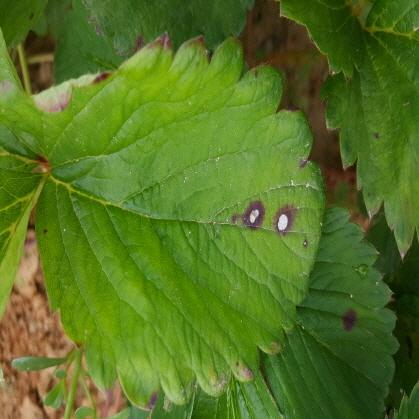Leaf Spot: (35, 29, 325, 413), (260, 205, 401, 418), (320, 0, 418, 262), (0, 69, 118, 159), (0, 0, 54, 50)
